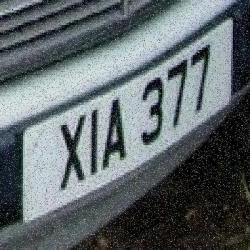LicensePlate: (9, 8, 242, 229)
